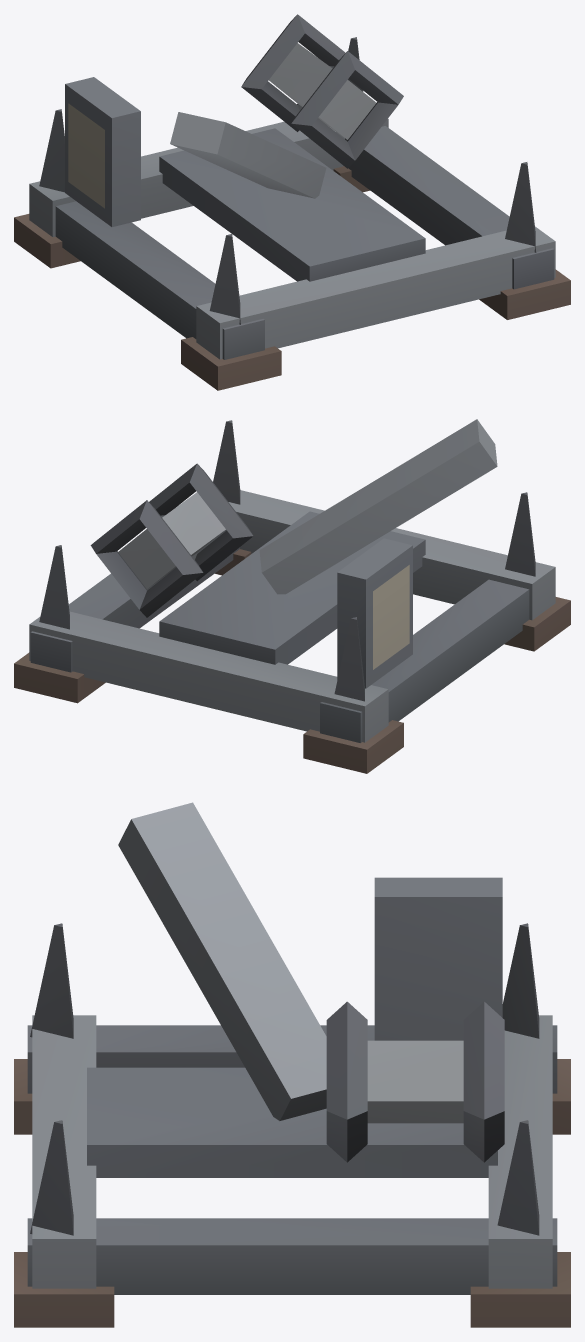
Rendered from winch.lod2.glb.
3 renders of one model, top to bottom at view 1: azimuth 30°, elevation 25°; view 2: azimuth 150°, elevation 25°; view 3: azimuth 270°, elevation 25°, orthographic. The views are drawn at different scales.
Size of the model in its own units: 1.22 by 0.742 by 1.22.
